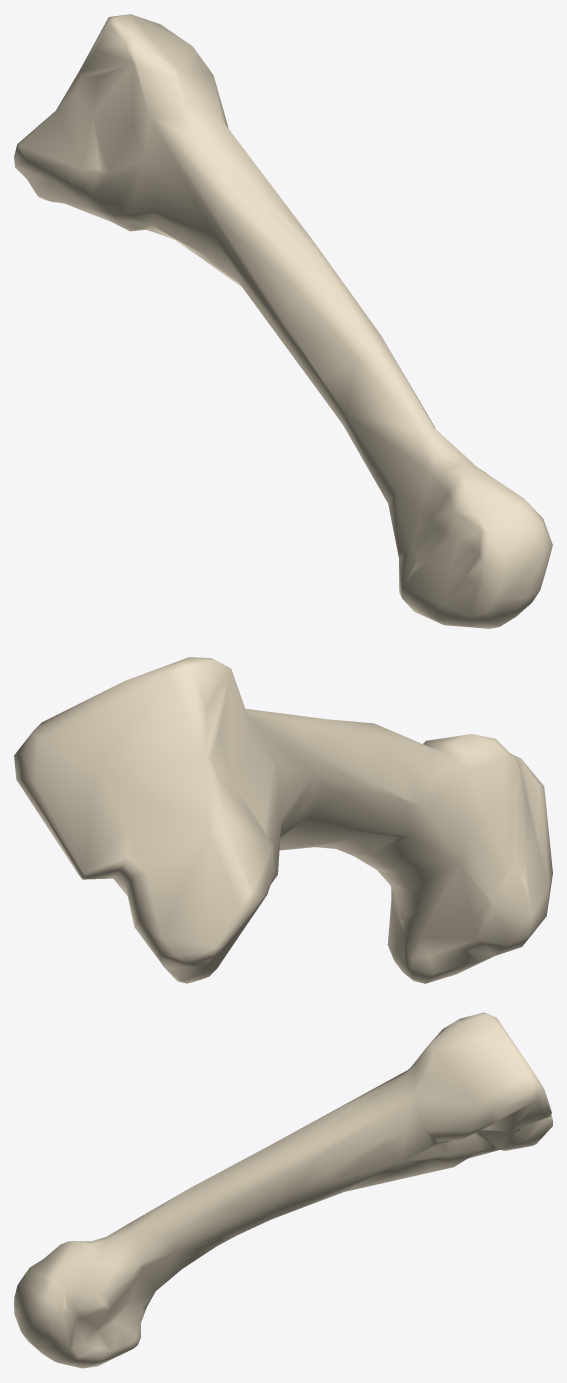
The model's file is third-metatarsal-bone-l.glb.
3 renders of one model, top to bottom at view 1: azimuth 30°, elevation 25°; view 2: azimuth 150°, elevation 25°; view 3: azimuth 270°, elevation 25°, orthographic. The views are drawn at different scales.
Visible parts, largest first — view 1: Third metatarsal bone.l; view 2: Third metatarsal bone.l; view 3: Third metatarsal bone.l.
Boxes of the visible parts, <box> form: Third metatarsal bone.l: <box>14,14,552,628</box>; Third metatarsal bone.l: <box>14,657,552,983</box>; Third metatarsal bone.l: <box>14,1012,552,1368</box>.
Bounding box in the file's own units: 0.0231 × 0.0444 × 0.0678.
